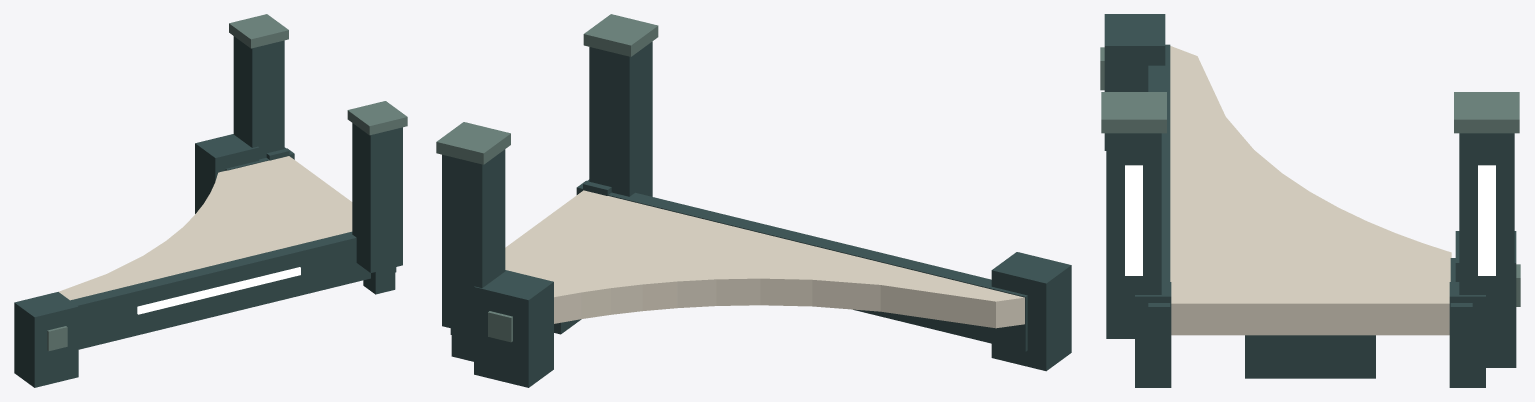
File: Pier_Angled_55_Switch_lab.glb
The picture shows the model from 3 angles, left to right: view 1: azimuth 30°, elevation 25°; view 2: azimuth 150°, elevation 25°; view 3: azimuth 270°, elevation 25°; orthographic projection. The views are drawn at different scales.
Parts seen in each view (by area): view 1: Pier_Angled_55_Switch; view 2: Pier_Angled_55_Switch; view 3: Pier_Angled_55_Switch.
Part boxes in pixels (x1=…): Pier_Angled_55_Switch: x1=14, y1=14, x2=407, y2=387; Pier_Angled_55_Switch: x1=436, y1=14, x2=1071, y2=387; Pier_Angled_55_Switch: x1=1100, y1=14, x2=1520, y2=387.
Size of the model in its own units: 6.41 by 2.95 by 4.17.
